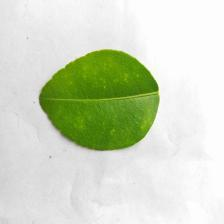greening: (70, 73, 155, 136)
